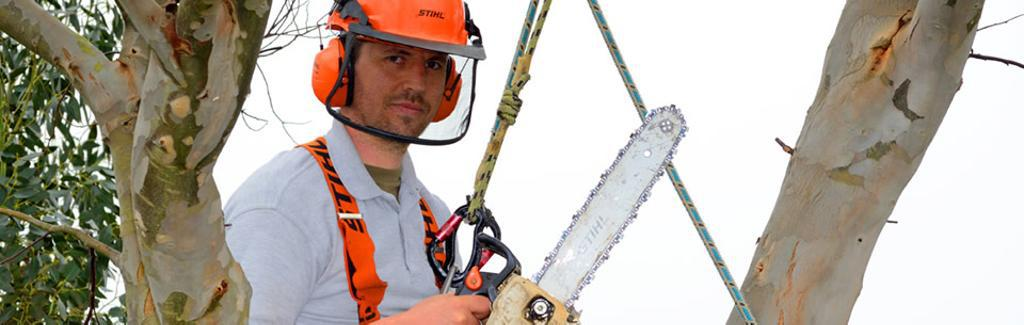face: (359, 33, 451, 135)
